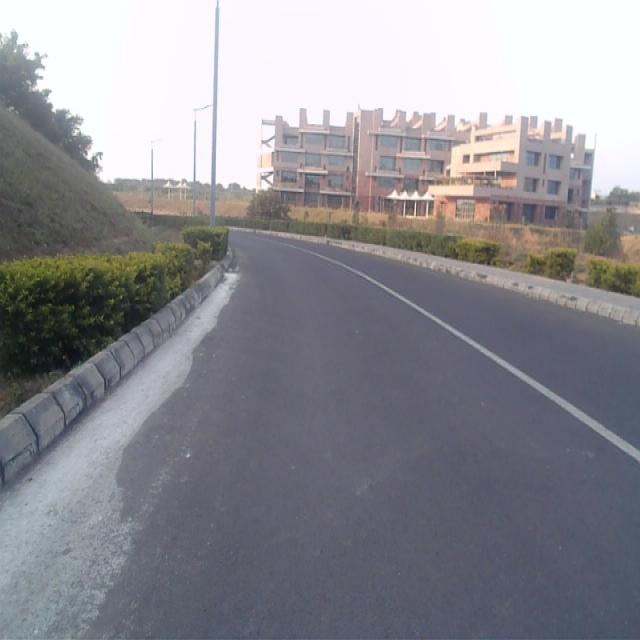lane: (0, 237, 640, 640)
